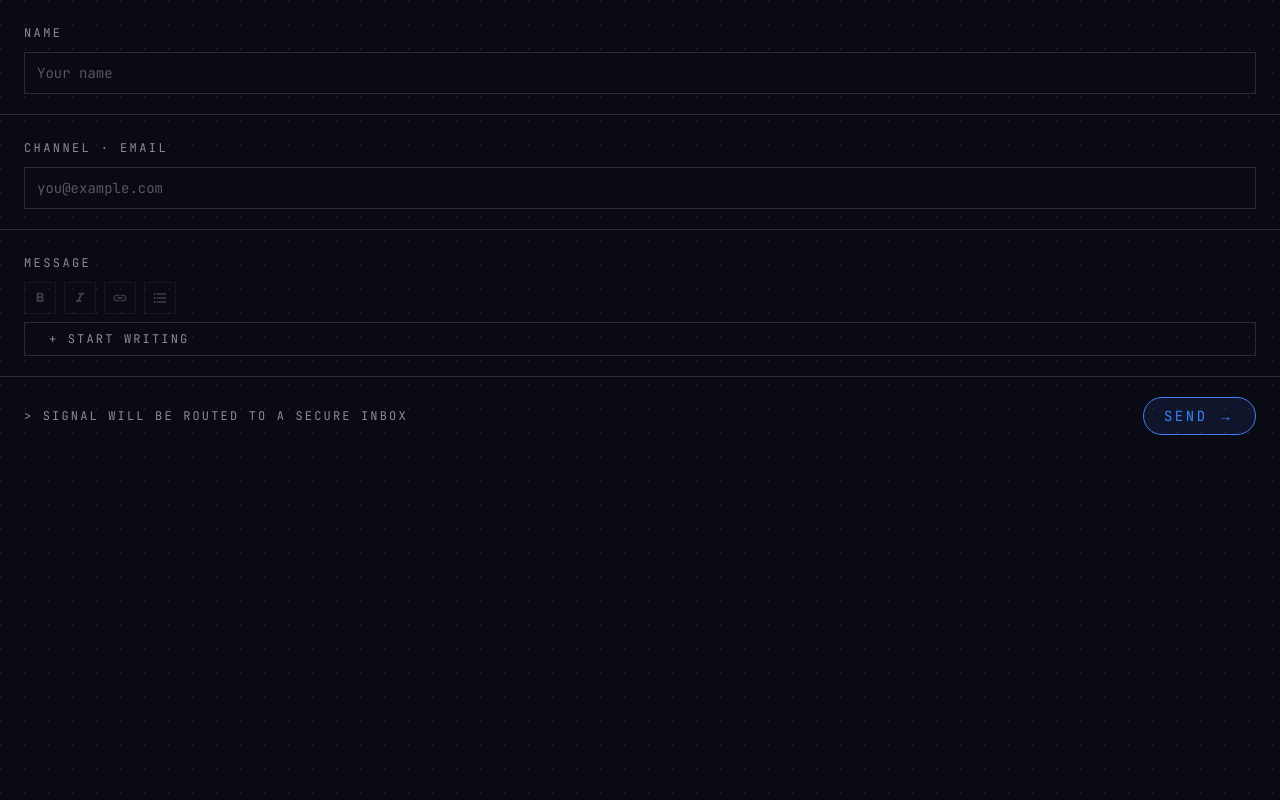
Test: ContactForm › falls back to a status message when the error body is unreadable
Type "A" into the field labelled "Name" at [640, 73], box x1=24 y1=52 x2=1256 y2=94
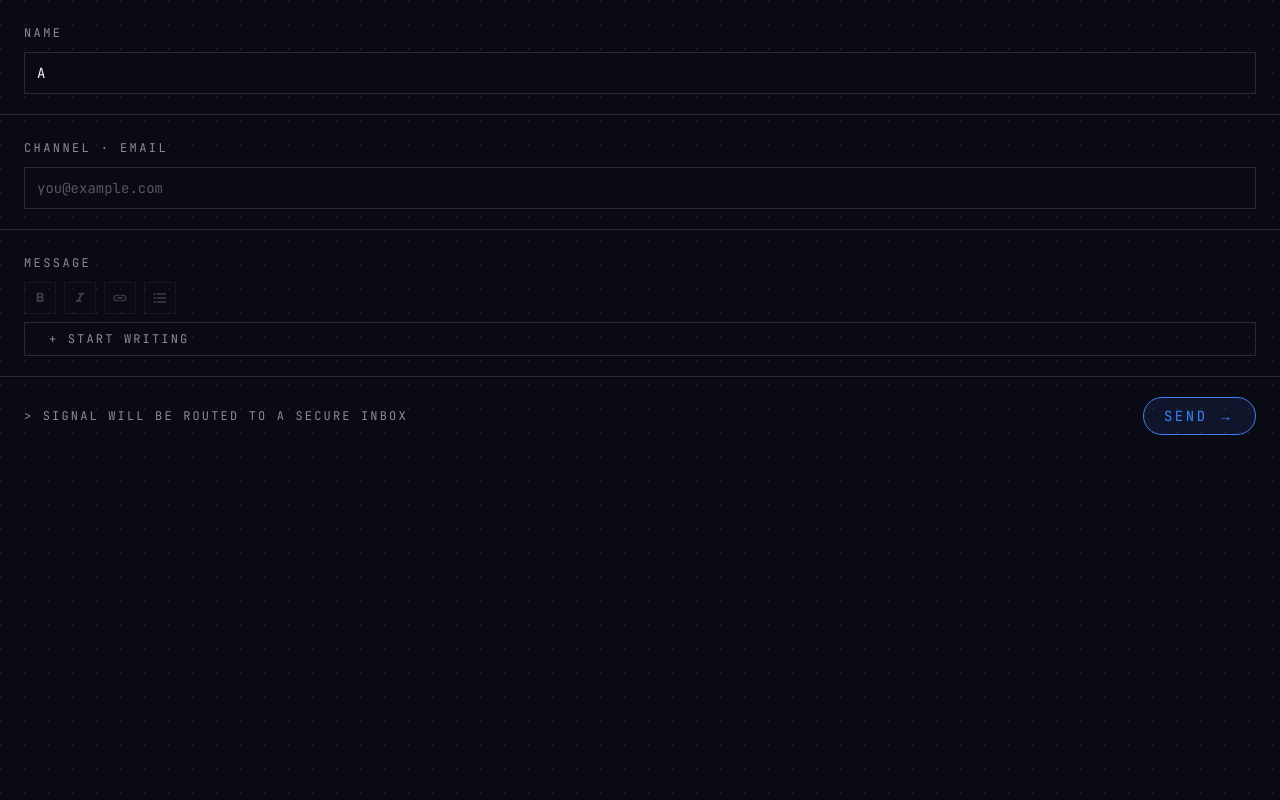
Type "a@b.co" into the field labelled "Channel · Email" at [640, 188], box x1=24 y1=167 x2=1256 y2=209
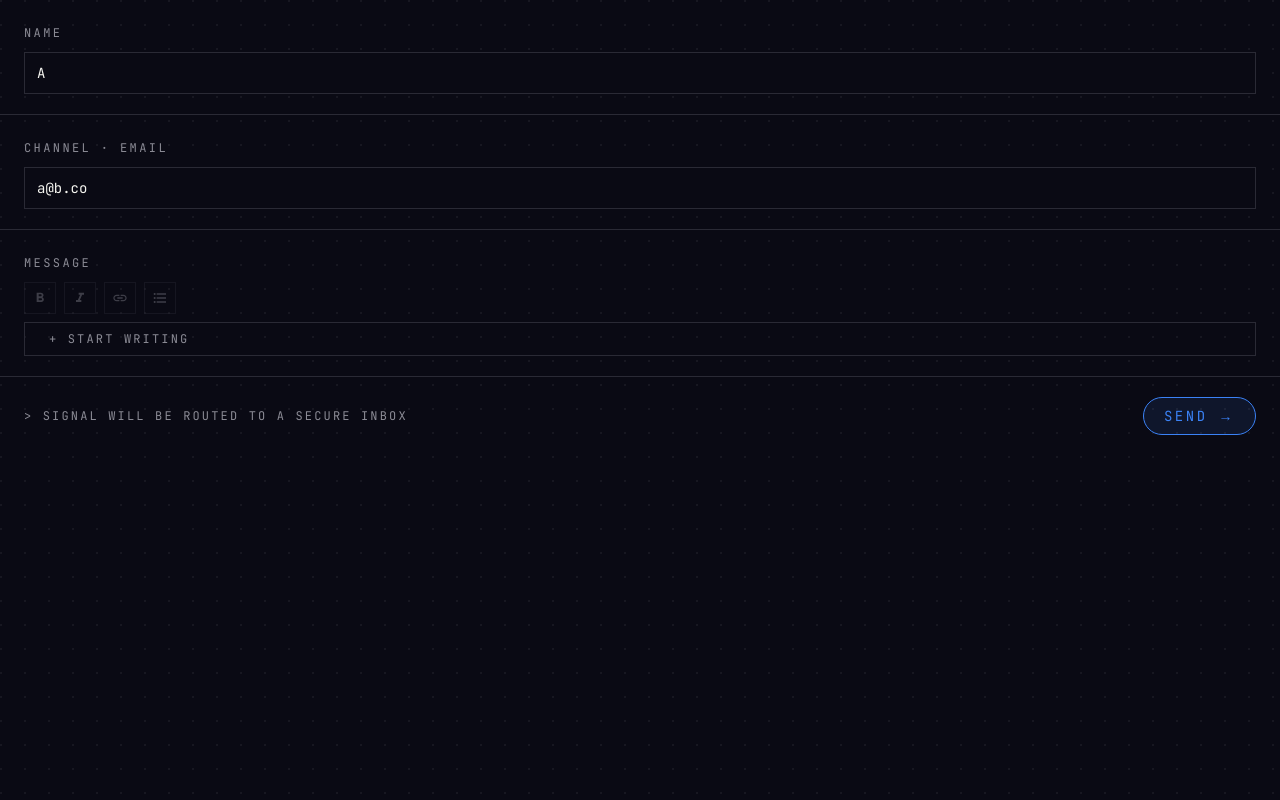
Click the button "+ start writing" at [119, 339], box x1=37 y1=331 x2=1243 y2=347
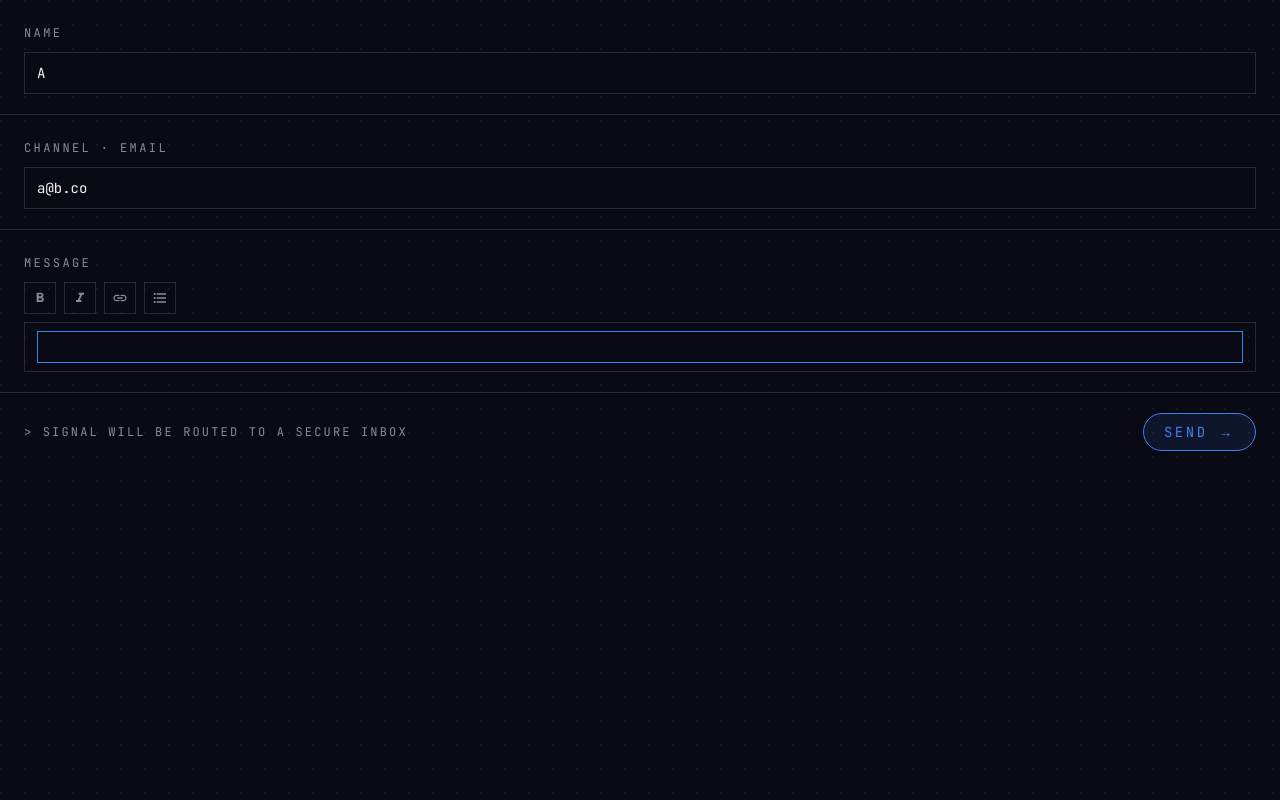
Type "hi" into the text box named "block editor" at [640, 347], box x1=37 y1=331 x2=1243 y2=363
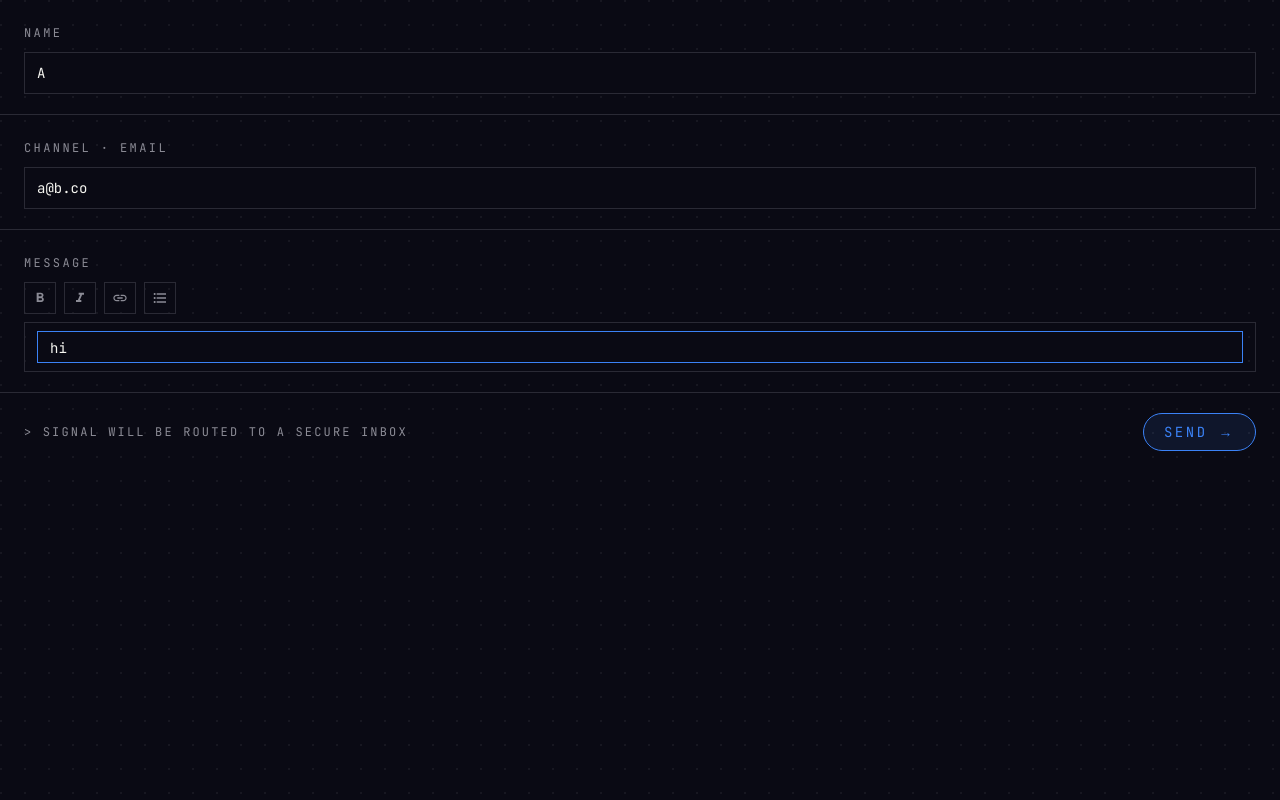
Submit the form "send", box x1=0 y1=0 x2=1279 y2=471
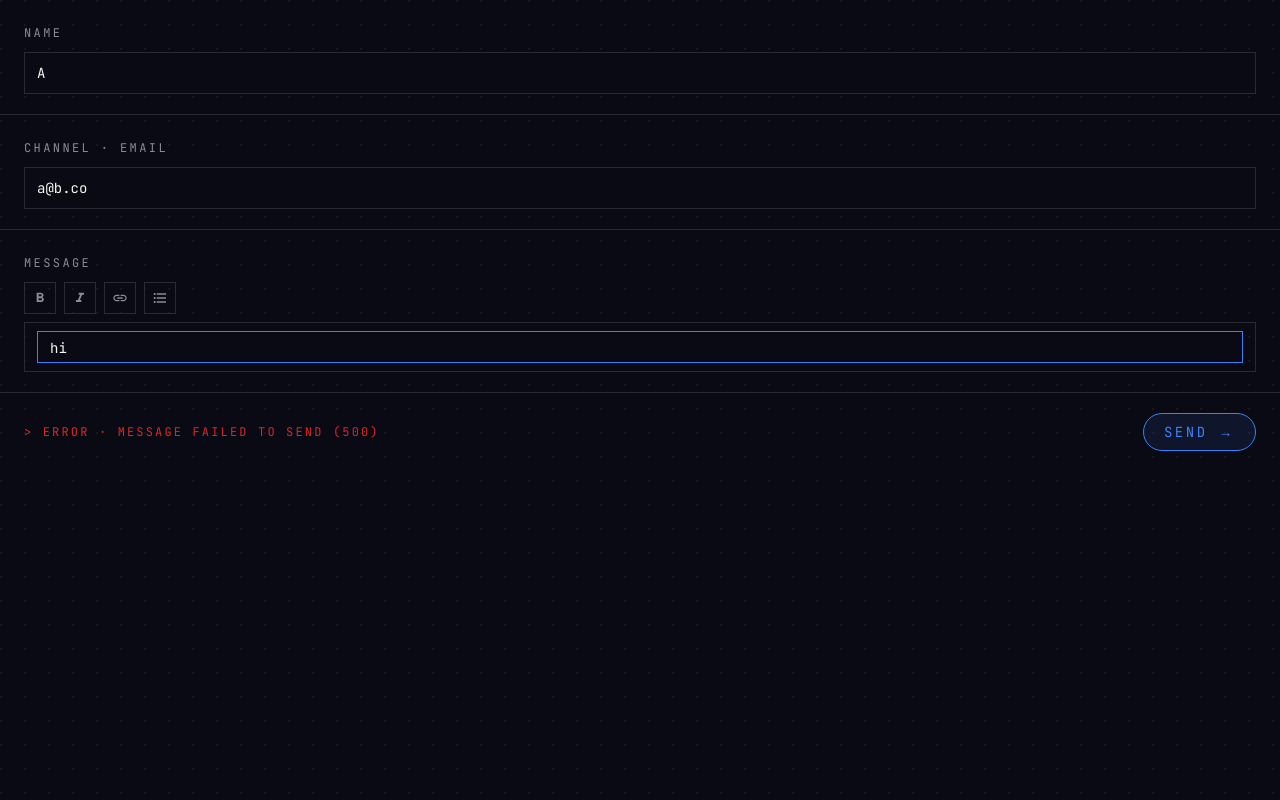
Check: the text "> error · Message failed to send (500)" is shown, box x1=24 y1=424 x2=380 y2=440
